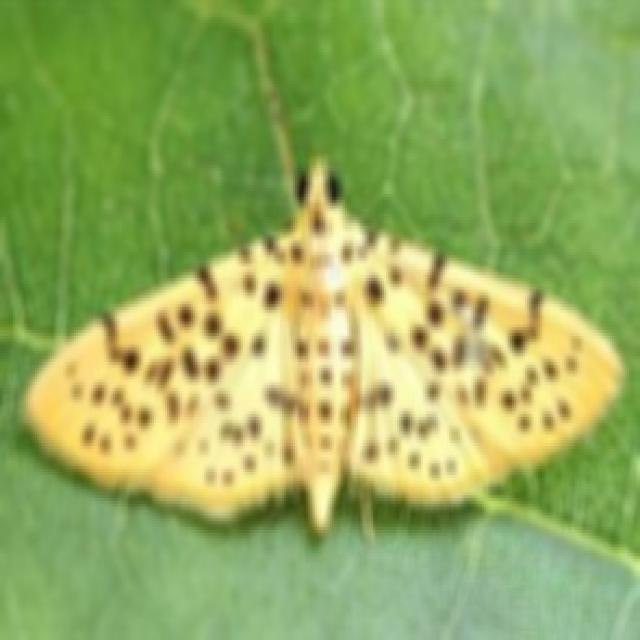peach borer: (20, 162, 629, 547)
